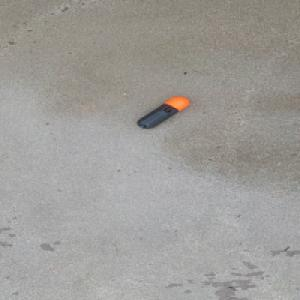PlasticPart: (136, 96, 191, 129)
